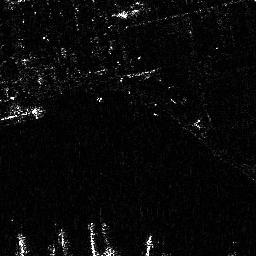ship: (1, 103, 47, 127)
